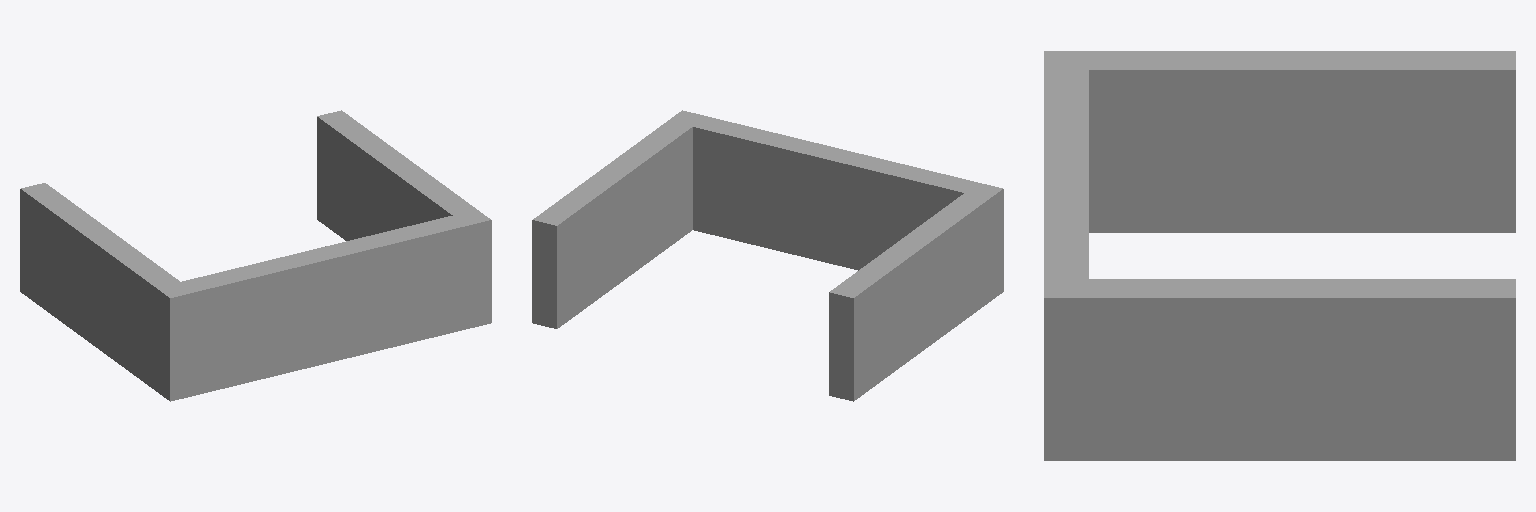
URDF robot description (ur3):
<?xml version="1.0" ?>
<!-- =================================================================================== -->
<!-- |    This document was autogenerated by xacro from [local-path]/devel/pinocchio/src/universal_robot/ur_description/urdf/ur3_joint_limited_robot.urdf.xacro | -->
<!-- |    EDITING THIS FILE BY HAND IS NOT RECOMMENDED                                 | -->
<!-- =================================================================================== -->
<robot name="ur3" xmlns:xacro="http://www.ros.org/wiki/xacro">
  <!-- common stuff -->
  <gazebo>
    <plugin filename="libgazebo_ros_control.so" name="ros_control">
      <!--robotNamespace>/</robotNamespace-->
      <!--robotSimType>gazebo_ros_control/DefaultRobotHWSim</robotSimType-->
    </plugin>
    <!--
    <plugin name="gazebo_ros_power_monitor_controller" filename="libgazebo_ros_power_monitor.so">
      <alwaysOn>true</alwaysOn>
      <updateRate>1.0</updateRate>
      <timeout>5</timeout>
      <powerStateTopic>power_state</powerStateTopic>
      <powerStateRate>10.0</powerStateRate>
      <fullChargeCapacity>87.78</fullChargeCapacity>
      <dischargeRate>-474</dischargeRate>
      <chargeRate>525</chargeRate>
      <dischargeVoltage>15.52</dischargeVoltage>
      <chargeVoltage>16.41</chargeVoltage>
    </plugin>
-->
  </gazebo>
  <!-- ur3 -->
  <!--
  Author: [author]
-->
  <!-- Inertia parameters -->
  <!-- This mass might be incorrect -->
  <!-- These parameters are borrowed from the urcontrol.conf file
       but are not verified for the correct permutation.
       The permutation was guessed by looking at the UR5 parameters.
       Serious use of these parameters needs further inspection. -->
  <!-- Kinematic model -->
  <!-- Properties from urcontrol.conf -->
  <!-- Arbitrary offsets for shoulder/elbow joints -->
  <!-- measured from model -->
  <!-- measured from model -->
  <!-- link lengths used in model -->
  <!-- arm -->
  <link name="base_link">
    <visual>
      <geometry>
        <mesh filename="package://ur_description/meshes/ur3/visual/base.dae"/>
      </geometry>
      <material name="LightGrey">
        <color rgba="0.7 0.7 0.7 1.0"/>
      </material>
    </visual>
    <collision>
      <geometry>
        <mesh filename="package://ur_description/meshes/ur3/collision/base.stl"/>
      </geometry>
    </collision>
    <inertial>
      <mass value="2.0"/>
      <origin rpy="0 0 0" xyz="0.0 0.0 0.0"/>
      <inertia ixx="0.0030531654454" ixy="0.0" ixz="0.0" iyy="0.0030531654454" iyz="0.0" izz="0.005625"/>
    </inertial>
  </link>
  <joint name="shoulder_pan_joint" type="revolute">
    <parent link="base_link"/>
    <child link="shoulder_link"/>
    <origin rpy="0.0 0.0 0.0" xyz="0.0 0.0 0.1519"/>
    <axis xyz="0 0 1"/>
    <limit effort="330.0" lower="-3.14159265" upper="3.14159265" velocity="2.16"/>
    <dynamics damping="0.0" friction="0.0"/>
  </joint>
  <link name="shoulder_link">
    <visual>
      <geometry>
        <mesh filename="package://ur_description/meshes/ur3/visual/shoulder.dae"/>
      </geometry>
      <material name="LightGrey">
        <color rgba="0.7 0.7 0.7 1.0"/>
      </material>
    </visual>
    <collision>
      <geometry>
        <mesh filename="package://ur_description/meshes/ur3/collision/shoulder.stl"/>
      </geometry>
    </collision>
    <inertial>
      <mass value="2.0"/>
      <origin rpy="0 0 0" xyz="0.0 0.0 0.0"/>
      <inertia ixx="0.0080931634294" ixy="0.0" ixz="0.0" iyy="0.0080931634294" iyz="0.0" izz="0.005625"/>
    </inertial>
  </link>
  <joint name="shoulder_lift_joint" type="revolute">
    <parent link="shoulder_link"/>
    <child link="upper_arm_link"/>
    <origin rpy="0.0 1.570796325 0.0" xyz="0.0 0.1198 0.0"/>
    <axis xyz="0 1 0"/>
    <limit effort="330.0" lower="-3.14159265" upper="3.14159265" velocity="2.16"/>
    <dynamics damping="0.0" friction="0.0"/>
  </joint>
  <link name="upper_arm_link">
    <visual>
      <geometry>
        <mesh filename="package://ur_description/meshes/ur3/visual/upperarm.dae"/>
      </geometry>
      <material name="LightGrey">
        <color rgba="0.7 0.7 0.7 1.0"/>
      </material>
    </visual>
    <collision>
      <geometry>
        <mesh filename="package://ur_description/meshes/ur3/collision/upperarm.stl"/>
      </geometry>
    </collision>
    <inertial>
      <mass value="3.42"/>
      <origin rpy="0 0 0" xyz="0.0 0.0 0.121825"/>
      <inertia ixx="0.0217284832211" ixy="0.0" ixz="0.0" iyy="0.0217284832211" iyz="0.0" izz="0.00961875"/>
    </inertial>
  </link>
  <joint name="elbow_joint" type="revolute">
    <parent link="upper_arm_link"/>
    <child link="forearm_link"/>
    <origin rpy="0.0 0.0 0.0" xyz="0.0 -0.0925 0.24365"/>
    <axis xyz="0 1 0"/>
    <limit effort="150.0" lower="-3.14159265" upper="3.14159265" velocity="3.15"/>
    <dynamics damping="0.0" friction="0.0"/>
  </joint>
  <link name="forearm_link">
    <visual>
      <geometry>
        <mesh filename="package://ur_description/meshes/ur3/visual/forearm.dae"/>
      </geometry>
      <material name="LightGrey">
        <color rgba="0.7 0.7 0.7 1.0"/>
      </material>
    </visual>
    <collision>
      <geometry>
        <mesh filename="package://ur_description/meshes/ur3/collision/forearm.stl"/>
      </geometry>
    </collision>
    <inertial>
      <mass value="1.26"/>
      <origin rpy="0 0 0" xyz="0.0 0.0 0.106625"/>
      <inertia ixx="0.00654680644378" ixy="0.0" ixz="0.0" iyy="0.00654680644378" iyz="0.0" izz="0.00354375"/>
    </inertial>
  </link>
  <joint name="wrist_1_joint" type="revolute">
    <parent link="forearm_link"/>
    <child link="wrist_1_link"/>
    <origin rpy="0.0 1.570796325 0.0" xyz="0.0 0.0 0.21325"/>
    <axis xyz="0 1 0"/>
    <limit effort="54.0" lower="-3.14159265" upper="3.14159265" velocity="3.2"/>
    <dynamics damping="0.0" friction="0.0"/>
  </joint>
  <link name="wrist_1_link">
    <visual>
      <geometry>
        <mesh filename="package://ur_description/meshes/ur3/visual/wrist1.dae"/>
      </geometry>
      <material name="LightGrey">
        <color rgba="0.7 0.7 0.7 1.0"/>
      </material>
    </visual>
    <collision>
      <geometry>
        <mesh filename="package://ur_description/meshes/ur3/collision/wrist1.stl"/>
      </geometry>
    </collision>
    <inertial>
      <mass value="0.8"/>
      <origin rpy="0 0 0" xyz="0.0 0.0 0.0"/>
      <inertia ixx="0.002084999166" ixy="0.0" ixz="0.0" iyy="0.002084999166" iyz="0.0" izz="0.00225"/>
    </inertial>
  </link>
  <joint name="wrist_2_joint" type="revolute">
    <parent link="wrist_1_link"/>
    <child link="wrist_2_link"/>
    <origin rpy="0.0 0.0 0.0" xyz="0.0 0.08505 0.0"/>
    <axis xyz="0 0 1"/>
    <limit effort="54.0" lower="-3.14159265" upper="3.14159265" velocity="3.2"/>
    <dynamics damping="0.0" friction="0.0"/>
  </joint>
  <link name="wrist_2_link">
    <visual>
      <geometry>
        <mesh filename="package://ur_description/meshes/ur3/visual/wrist2.dae"/>
      </geometry>
      <material name="LightGrey">
        <color rgba="0.7 0.7 0.7 1.0"/>
      </material>
    </visual>
    <collision>
      <geometry>
        <mesh filename="package://ur_description/meshes/ur3/collision/wrist2.stl"/>
      </geometry>
    </collision>
    <inertial>
      <mass value="0.8"/>
      <origin rpy="0 0 0" xyz="0.0 0.0 0.0"/>
      <inertia ixx="0.002084999166" ixy="0.0" ixz="0.0" iyy="0.002084999166" iyz="0.0" izz="0.00225"/>
    </inertial>
  </link>
  <joint name="wrist_3_joint" type="revolute">
    <parent link="wrist_2_link"/>
    <child link="wrist_3_link"/>
    <origin rpy="0.0 0.0 0.0" xyz="0.0 0.0 0.08535"/>
    <axis xyz="0 1 0"/>
    <limit effort="54.0" lower="-3.14159265" upper="3.14159265" velocity="3.2"/>
    <dynamics damping="0.0" friction="0.0"/>
  </joint>
  <link name="wrist_3_link">
    <visual>
      <geometry>
        <mesh filename="package://ur_description/meshes/ur3/visual/wrist3.dae"/>
      </geometry>
      <material name="LightGrey">
        <color rgba="0.7 0.7 0.7 1.0"/>
      </material>
    </visual>
    <collision>
      <geometry>
        <mesh filename="package://ur_description/meshes/ur3/collision/wrist3.stl"/>
      </geometry>
    </collision>
    <inertial>
      <mass value="0.35"/>
      <origin rpy="0 0 0" xyz="0.0 0.0 0.0"/>
      <inertia ixx="0.000912187135125" ixy="0.0" ixz="0.0" iyy="0.000912187135125" iyz="0.0" izz="0.000984375"/>
    </inertial>
  </link>
  <joint name="ee_fixed_joint" type="fixed">
    <parent link="wrist_3_link"/>
    <child link="ee_link"/>
    <origin rpy="0.0 0.0 1.570796325" xyz="0.0 0.0819 0.0"/>
  </joint>
  <link name="ee_link">
    <collision>
      <geometry>
        <box size="0.01 0.01 0.01"/>
      </geometry>
      <origin rpy="0 0 0" xyz="-0.01 0 0"/>
    </collision>
  </link>
  <transmission name="shoulder_pan_trans">
    <type>transmission_interface/SimpleTransmission</type>
    <joint name="shoulder_pan_joint">
      <hardwareInterface>PositionJointInterface</hardwareInterface>
    </joint>
    <actuator name="shoulder_pan_motor">
      <mechanicalReduction>1</mechanicalReduction>
    </actuator>
  </transmission>
  <transmission name="shoulder_lift_trans">
    <type>transmission_interface/SimpleTransmission</type>
    <joint name="shoulder_lift_joint">
      <hardwareInterface>PositionJointInterface</hardwareInterface>
    </joint>
    <actuator name="shoulder_lift_motor">
      <mechanicalReduction>1</mechanicalReduction>
    </actuator>
  </transmission>
  <transmission name="elbow_trans">
    <type>transmission_interface/SimpleTransmission</type>
    <joint name="elbow_joint">
      <hardwareInterface>PositionJointInterface</hardwareInterface>
    </joint>
    <actuator name="elbow_motor">
      <mechanicalReduction>1</mechanicalReduction>
    </actuator>
  </transmission>
  <transmission name="wrist_1_trans">
    <type>transmission_interface/SimpleTransmission</type>
    <joint name="wrist_1_joint">
      <hardwareInterface>PositionJointInterface</hardwareInterface>
    </joint>
    <actuator name="wrist_1_motor">
      <mechanicalReduction>1</mechanicalReduction>
    </actuator>
  </transmission>
  <transmission name="wrist_2_trans">
    <type>transmission_interface/SimpleTransmission</type>
    <joint name="wrist_2_joint">
      <hardwareInterface>PositionJointInterface</hardwareInterface>
    </joint>
    <actuator name="wrist_2_motor">
      <mechanicalReduction>1</mechanicalReduction>
    </actuator>
  </transmission>
  <transmission name="wrist_3_trans">
    <type>transmission_interface/SimpleTransmission</type>
    <joint name="wrist_3_joint">
      <hardwareInterface>PositionJointInterface</hardwareInterface>
    </joint>
    <actuator name="wrist_3_motor">
      <mechanicalReduction>1</mechanicalReduction>
    </actuator>
  </transmission>
  <!-- nothing to do here at the moment -->
  <!-- ROS base_link to UR 'Base' Coordinates transform -->
  <link name="base"/>
  <joint name="base_link-base_fixed_joint" type="fixed">
    <!-- NOTE: this rotation is only needed as long as base_link itself is
                 not corrected wrt the real robot (ie: rotated over 180
                 degrees)
      -->
    <origin rpy="0 0 -3.14159265" xyz="0 0 0"/>
    <parent link="base_link"/>
    <child link="base"/>
  </joint>
  <!-- Frame coincident with all-zeros TCP on UR controller -->
  <link name="tool0">
    <visual>
      <geometry>
	<box size="0.005 0.02 0.05" />
      </geometry>
      <origin xyz="0.03 0 0.035" />
      <material name="LightGrey">
        <color rgba="0.7 0.7 0.7 1.0"/>
      </material>
    </visual>
    <visual>
      <geometry>
	<box size="0.005 0.02 0.05" />
      </geometry>
      <origin xyz="-0.03 0 0.035" />
      <material name="LightGrey">
        <color rgba="0.7 0.7 0.7 1.0"/>
      </material>
    </visual>
    <visual>
      <geometry>
	<box size="0.065 0.02 0.005" />
      </geometry>
      <origin xyz="0 0 0.01" />
      <material name="LightGrey">
        <color rgba="0.7 0.7 0.7 1.0"/>
      </material>
    </visual>

    <collision>
      <geometry>
	<box size="0.005 0.02 0.05" />
      </geometry>
      <origin xyz="0.03 0 0.035" />
    </collision>
    <collision>
      <geometry>
	<box size="0.005 0.02 0.05" />
      </geometry>
      <origin xyz="-0.03 0 0.035" />
    </collision>
    <collision>
      <geometry>
	<box size="0.065 0.02 0.005" />
      </geometry>
      <origin xyz="0 0 0.01" />
    </collision>
  </link>
  <joint name="wrist_3_link-tool0_fixed_joint" type="fixed">
    <origin rpy="-1.570796325 0 0" xyz="0 0.0823 0"/>
    <parent link="wrist_3_link"/>
    <child link="tool0"/>
  </joint>
  <link name="world"/>
  <joint name="world_joint" type="fixed">
    <parent link="world"/>
    <child link="base_link"/>
    <origin rpy="0.0 0.0 0.0" xyz="0.0 0.0 0.0"/>
  </joint>
</robot>

--- Render facts (derived) ---
Views: 3 orthographic renders of the robot side by side, from view 1: azimuth 30°, elevation 25°; view 2: azimuth 150°, elevation 25°; view 3: azimuth 270°, elevation 25°.
Robot: ur3 — 11 links, 10 joints (6 revolute, 4 fixed); root link world; default pose: every joint at zero.
Links seen in each view (by area): view 1: tool0; view 2: tool0; view 3: tool0.
Link boxes in pixels (x1,y1,x2,y2): tool0: [20, 110, 491, 401]; tool0: [532, 110, 1003, 401]; tool0: [1044, 51, 1515, 460].
Size in the robot's own frame: 0.065 by 0.0525 by 0.02 metres.
Meshes: 7 distinct files referenced, 0 mesh visuals loaded (none loaded); not drawn: 7 (reference not matched to a file when rendering).